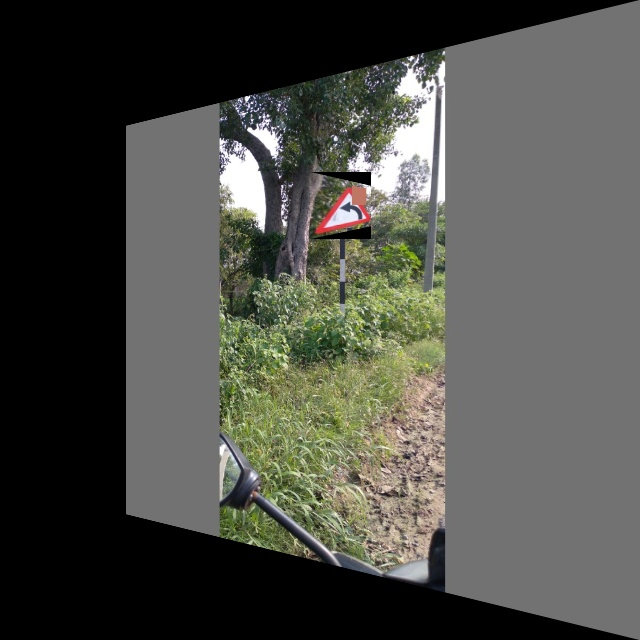Left_Hand_Curve: (310, 172, 371, 239)
